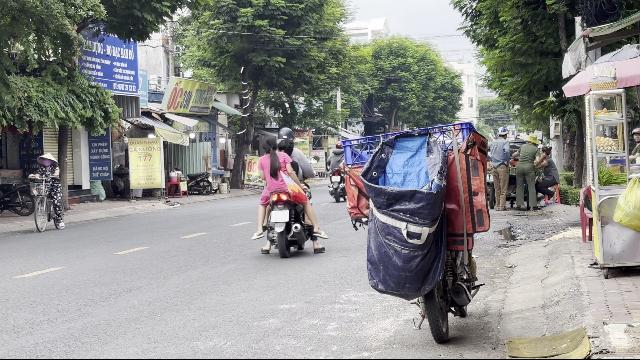helmet: (277, 126, 295, 150)
licenseplate: (271, 210, 289, 222)
motorcyclist: (251, 126, 323, 258)
nohelmet: (258, 132, 278, 152)
